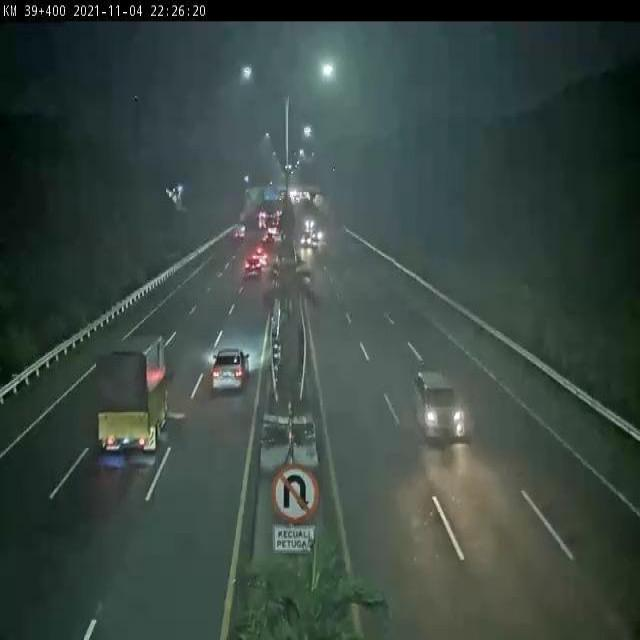car: (413, 367, 463, 437), (213, 346, 246, 390), (242, 255, 263, 276), (254, 248, 269, 265), (300, 232, 312, 247)
truck-m-: (94, 340, 169, 469)
